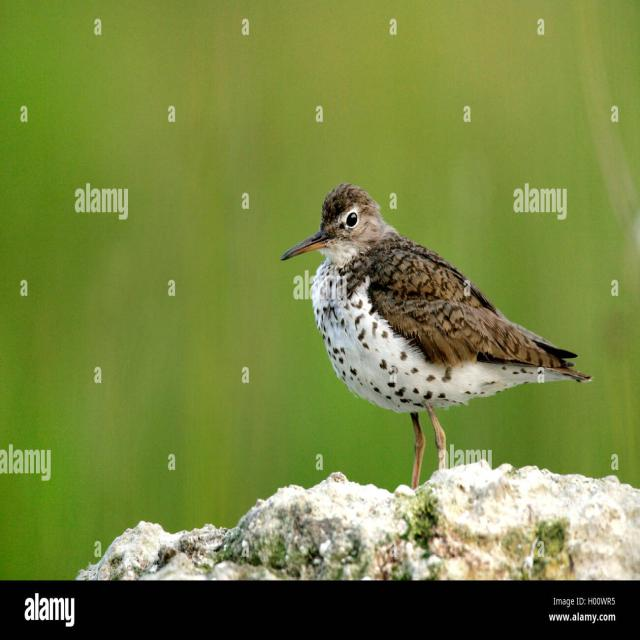Sandpiper: (284, 182, 592, 484)
